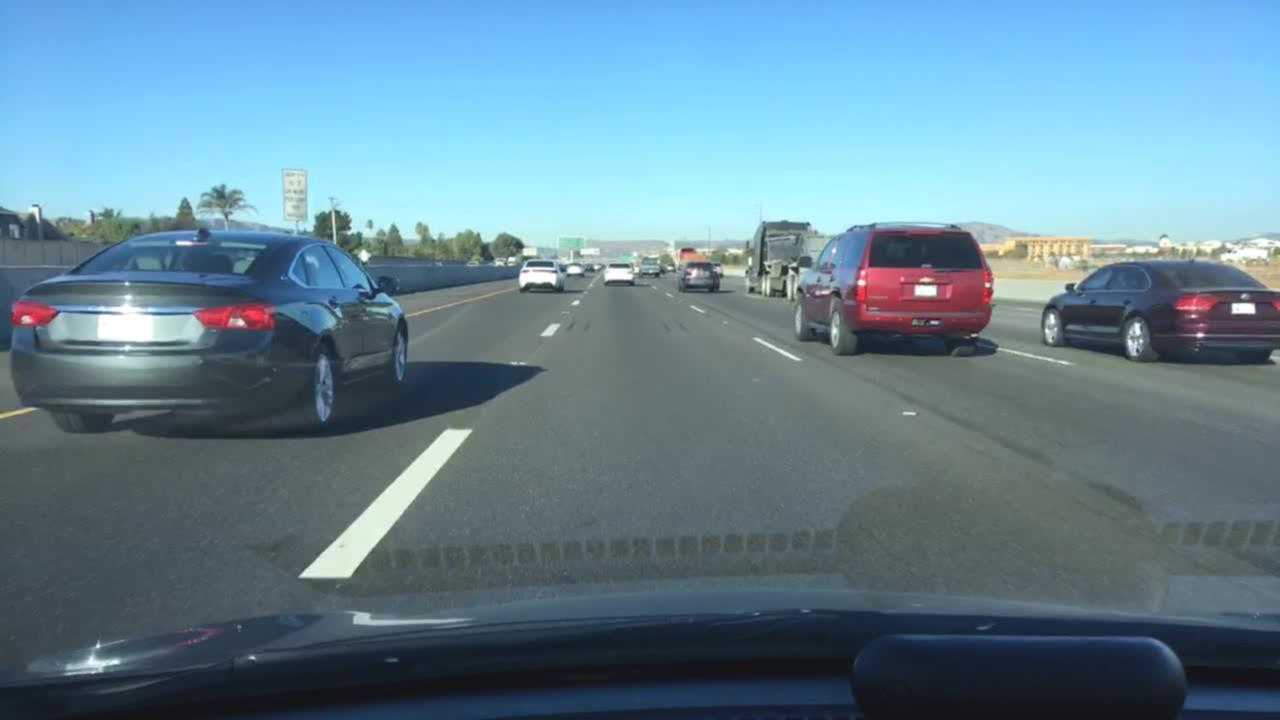chevrolet: (914, 274, 938, 287)
